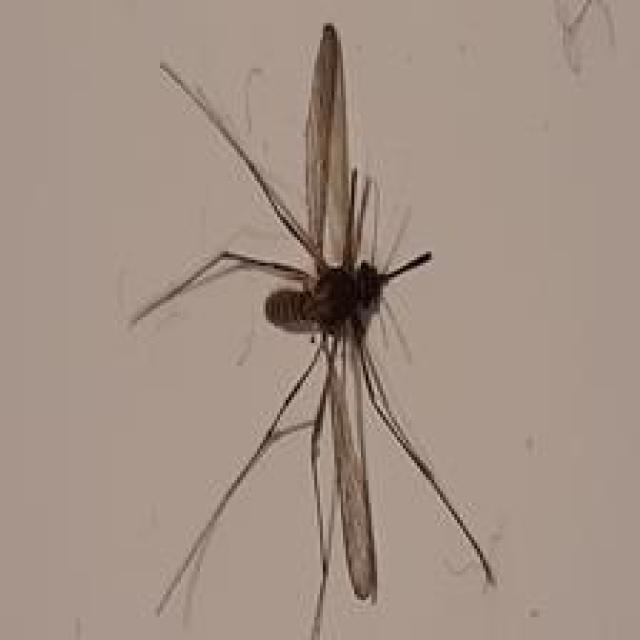Culex: (127, 20, 499, 640)
